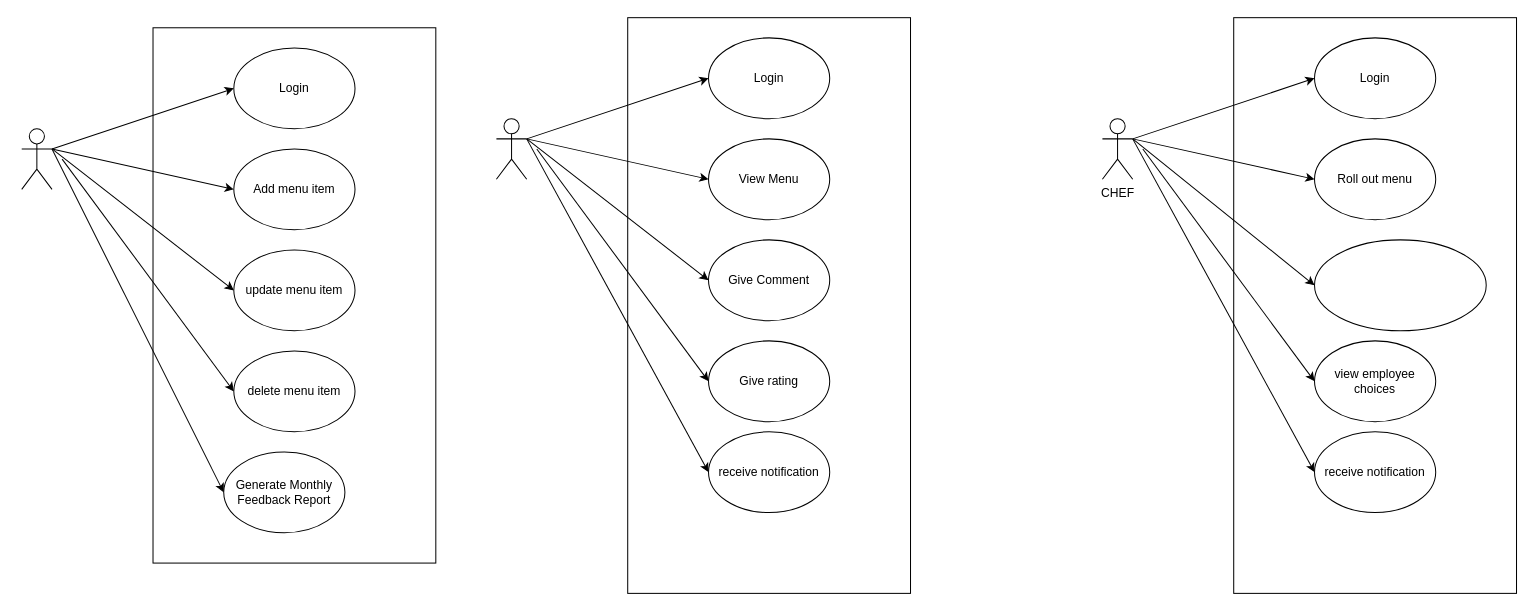
Some shapes in this 1534 by 611 pixel diagram are drawn without their labels. The centre of each missing label's shape, as x and y in pixels:
"ADMIN" belongs at point (36, 158).
"EMPLOYEE" belongs at point (511, 148).
"send recommendations/notifications" belongs at point (1400, 285).
